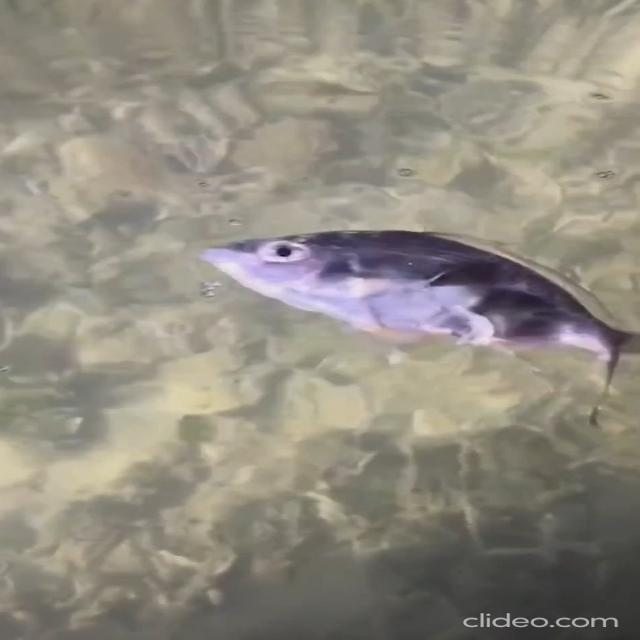fish: (195, 223, 640, 401)
